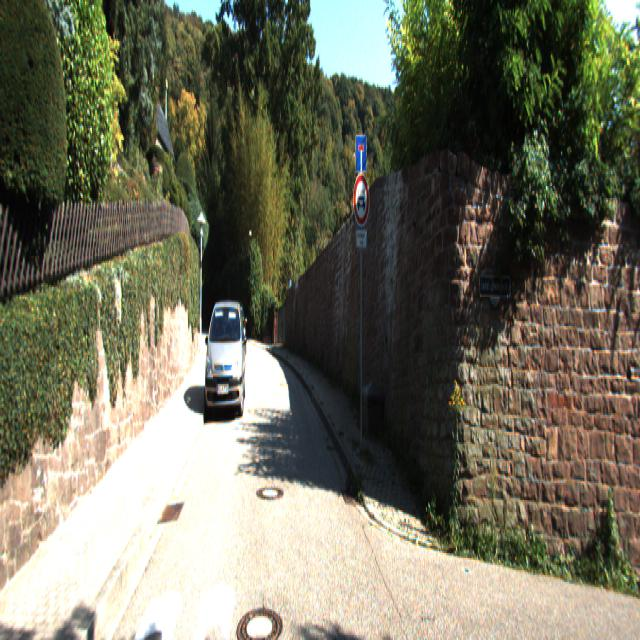Car: (203, 293, 246, 422), (223, 300, 247, 360)
